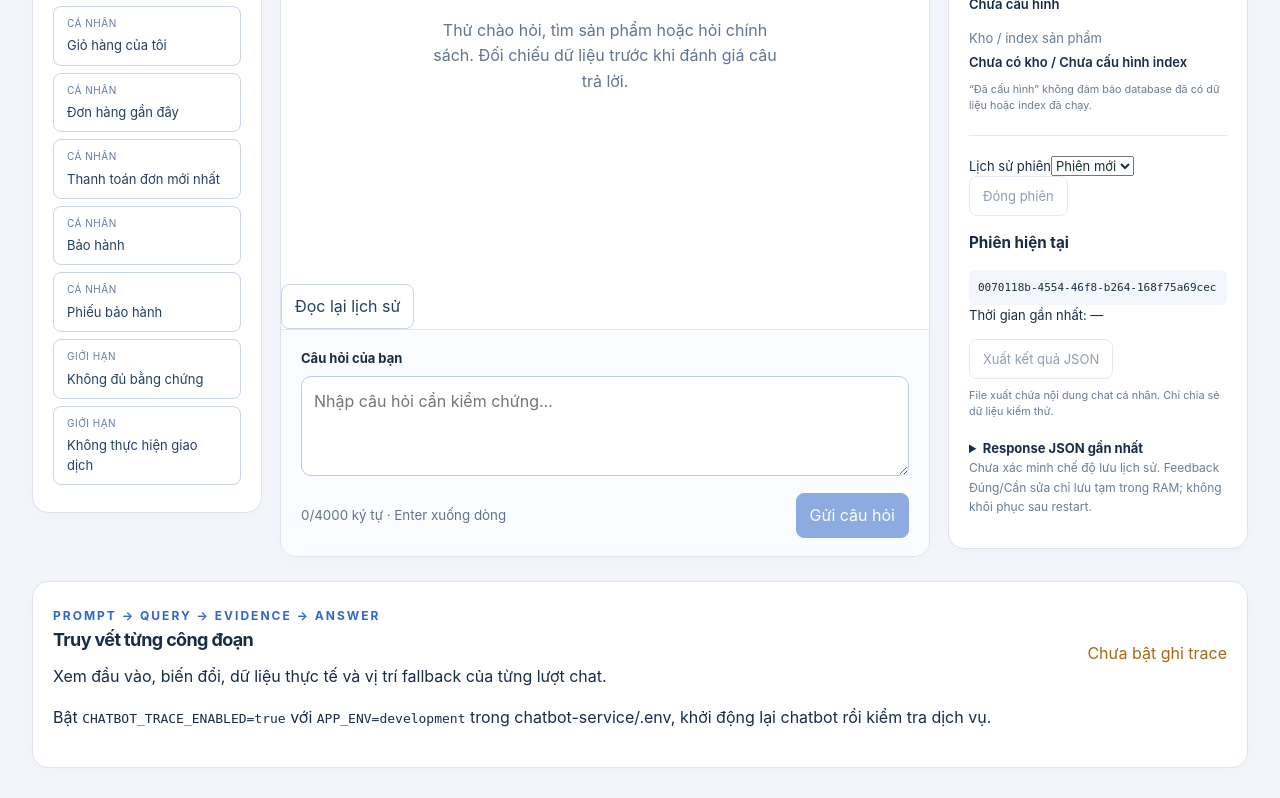
Test: requires a successful history reload after an ambiguous persistence failure
(page scrolled)
Type "Thử lưu" into the text box labelled "Câu hỏi của bạn" at (605, 426), box [301,376,909,476]
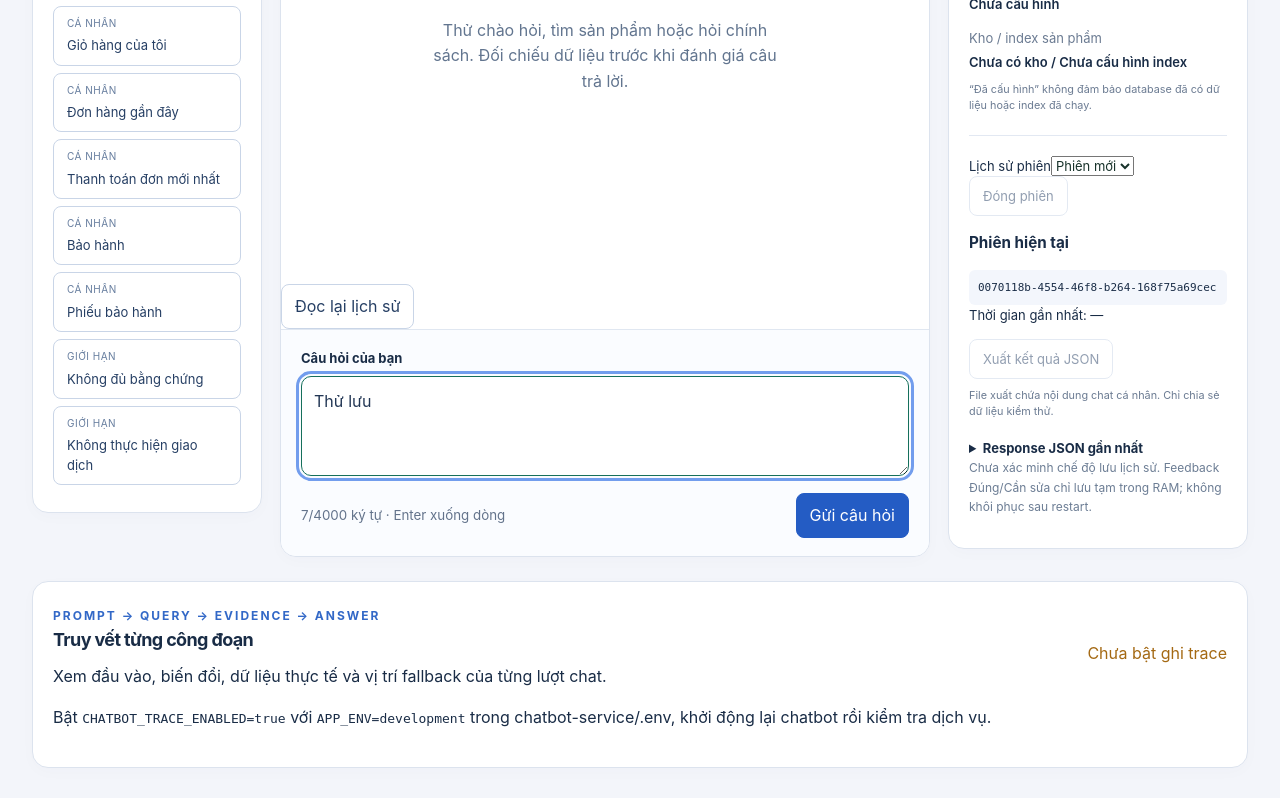
Click the button "Gửi câu hỏi" at (852, 515), box [796,493,909,538]
(page scrolled)
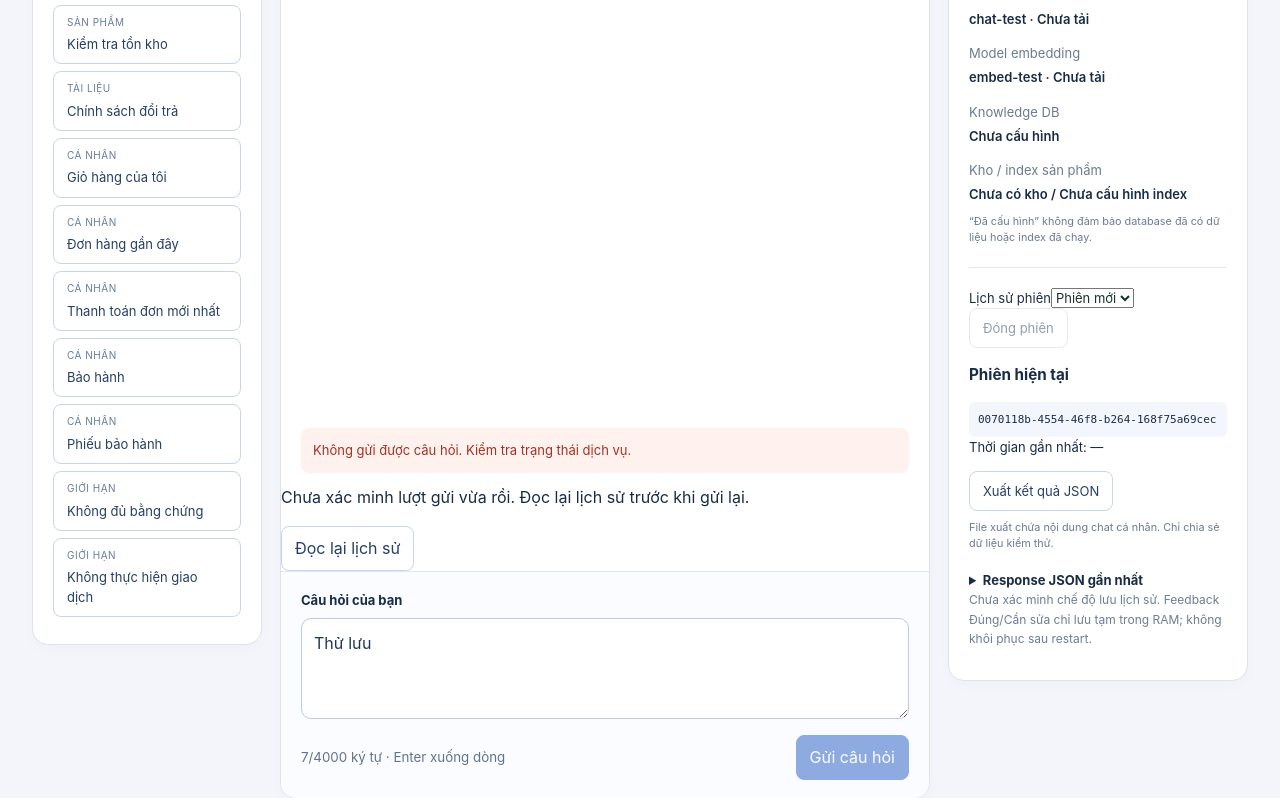
Expected: the text "Chưa xác minh lượt gửi vừa rồi. Đọc lại lịch sử trước khi gửi lại." is shown, [281,487,749,507]
Expected: the button "Gửi câu hỏi" is disabled, [796,735,909,780]
Click the button "Đọc lại lịch sử" at (348, 549), box [281,526,414,571]
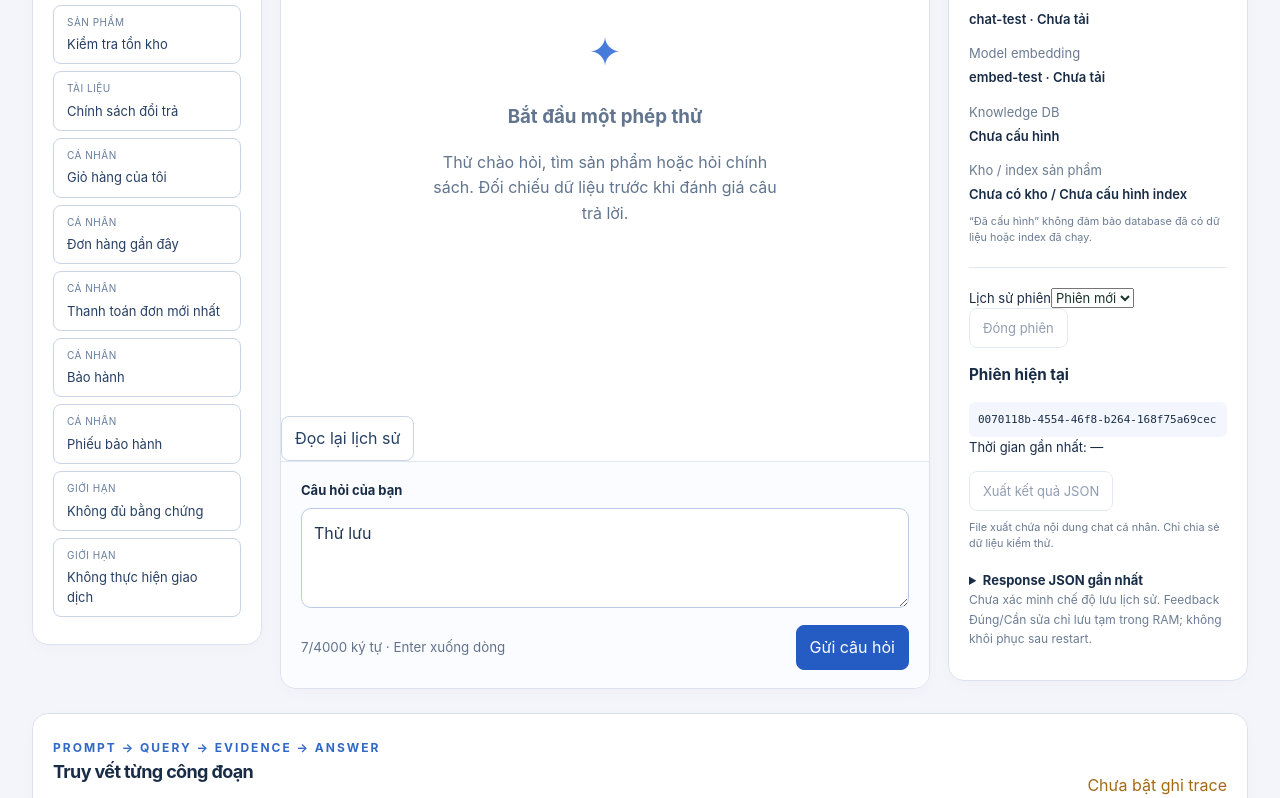
Expected: the button "Gửi câu hỏi" is enabled, [796,625,909,670]
